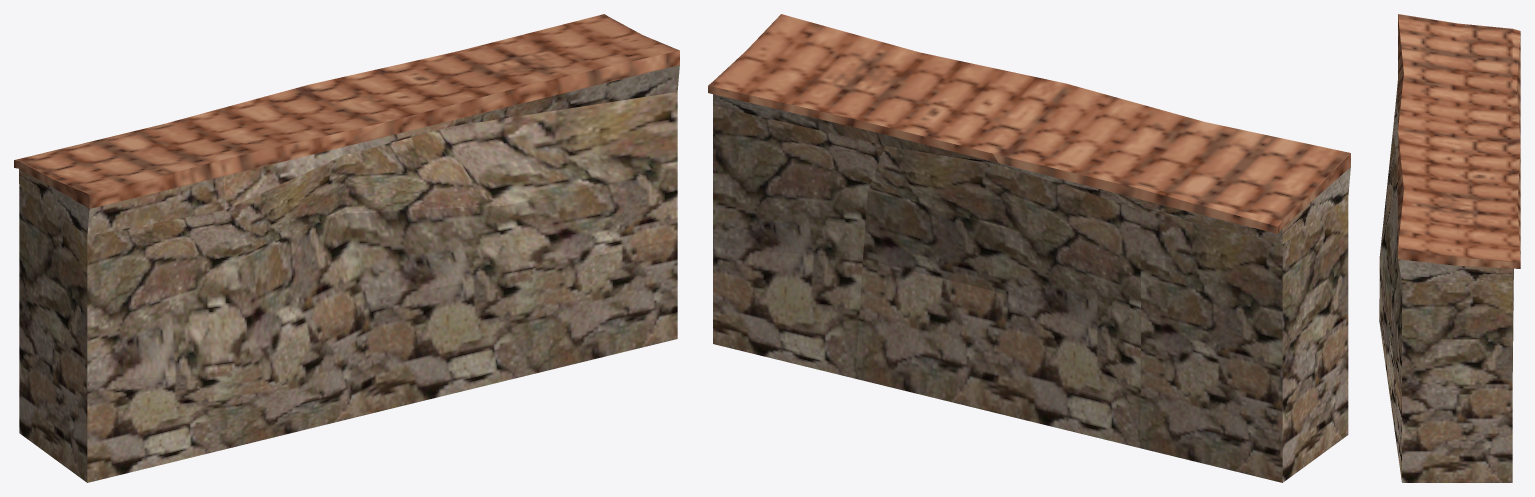
The model's file is drystone_wall_tiles.fbx.
3 views of the same model, side by side, from view 1: azimuth 30°, elevation 25°; view 2: azimuth 150°, elevation 25°; view 3: azimuth 270°, elevation 25° (orthographic). The views are drawn at different scales.
Parts seen in each view (by area): view 1: drystone_wall_tiles; view 2: drystone_wall_tiles; view 3: drystone_wall_tiles.
Boxes of the visible parts, x1,y1,x2,y2 form: drystone_wall_tiles: (14, 14, 679, 482); drystone_wall_tiles: (708, 14, 1350, 482); drystone_wall_tiles: (1379, 14, 1520, 482).
Bounding box in the file's own units: 201 × 93.98 × 51.14.
Materials: 2 (2 with a texture image).
